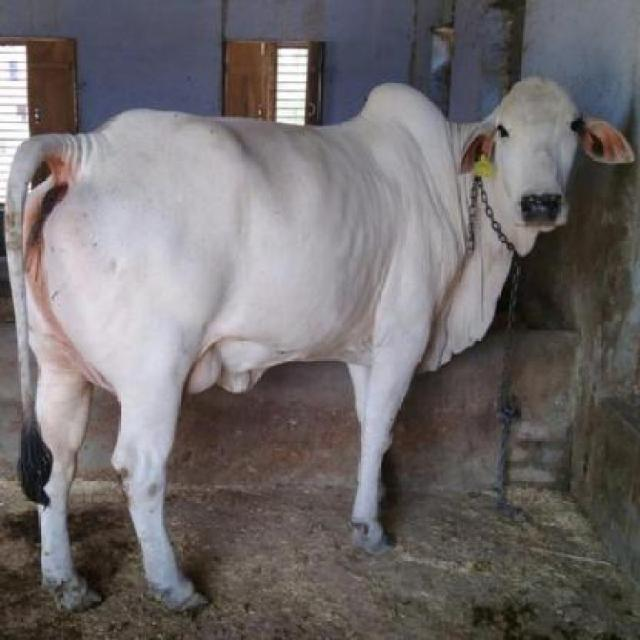Cow: (4, 77, 638, 618)
